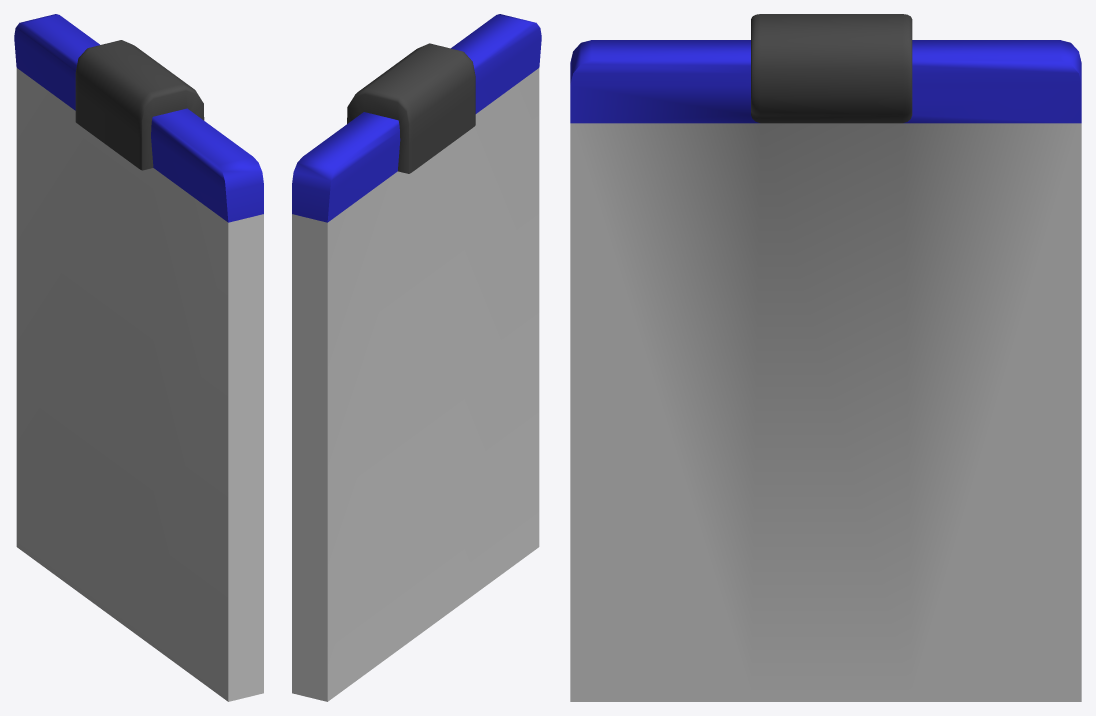
The model's file is txt.fbx.
3 views of the same model, side by side, from view 1: azimuth 30°, elevation 25°; view 2: azimuth 150°, elevation 25°; view 3: azimuth 270°, elevation 25° (orthographic). The views are drawn at different scales.
Visible parts, largest first — view 1: txt; view 2: txt; view 3: txt.
Boxes of the visible parts, x1,y1,x2,y2 form: txt: [14, 14, 263, 701]; txt: [292, 14, 541, 701]; txt: [570, 14, 1081, 701].
Size of the model in its own units: 5.23 by 43.42 by 30.18.
